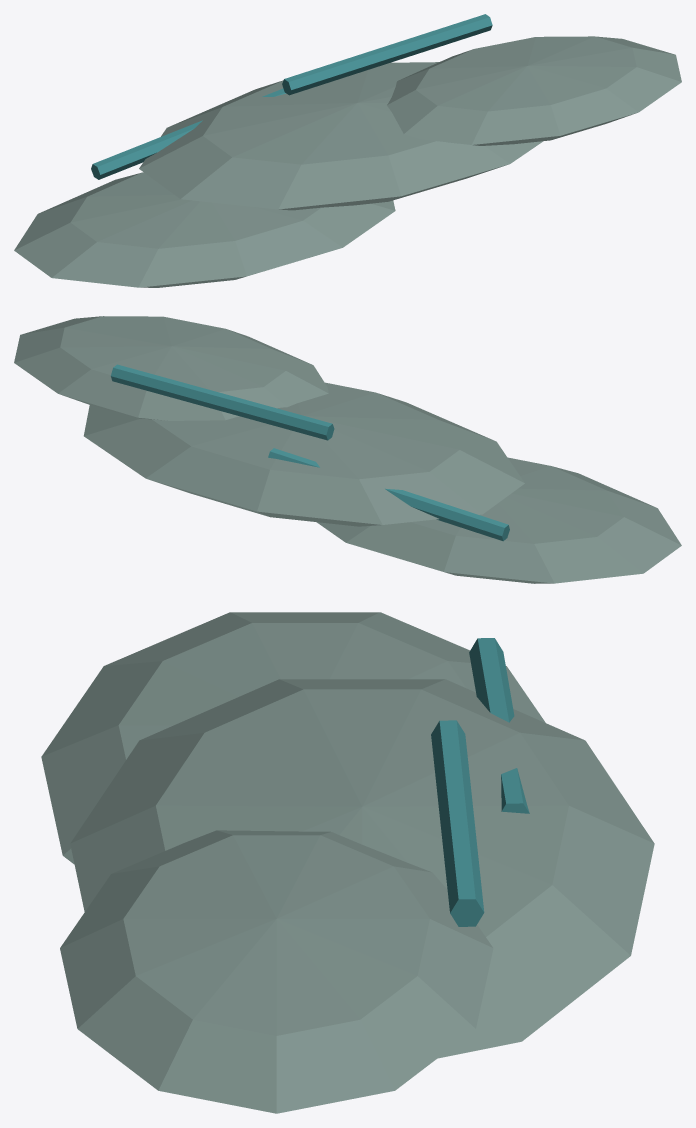
The model's file is silica_outcrop_b.obj.
3 renders of one model, top to bottom at view 1: azimuth 30°, elevation 25°; view 2: azimuth 150°, elevation 25°; view 3: azimuth 270°, elevation 25°, orthographic. The views are drawn at different scales.
Parts seen in each view (by area): view 1: shelf_1, shelf_0, shelf_2, seam_1, seam_0; view 2: shelf_1, shelf_0, shelf_2, seam_1, seam_0; view 3: shelf_1, shelf_2, shelf_0, seam_1, seam_0.
Part boxes in pixels (box(x1,y1,x2,y2)): shelf_1: box(139, 62, 542, 210); shelf_0: box(14, 172, 395, 287); shelf_2: box(387, 36, 681, 145); seam_1: box(282, 14, 492, 95); seam_0: box(91, 88, 285, 179); shelf_1: box(83, 382, 524, 526); shelf_0: box(316, 457, 681, 583); shelf_2: box(14, 316, 328, 420); seam_1: box(111, 364, 334, 440); seam_0: box(268, 448, 509, 541); shelf_1: box(70, 679, 654, 1058); shelf_2: box(60, 830, 493, 1113); shelf_0: box(41, 612, 545, 864); seam_1: box(431, 720, 484, 926); seam_0: box(469, 638, 529, 813).
Size of the model in its own units: 7.71 by 1.46 by 3.22.
